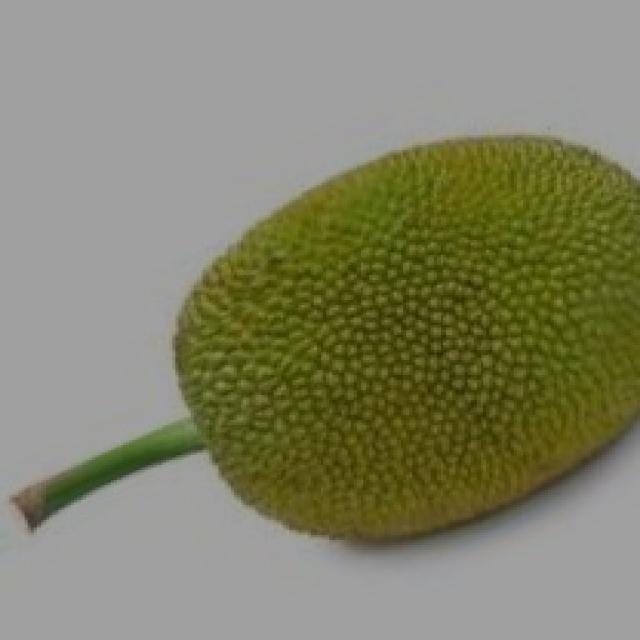Fruit: (203, 127, 637, 555)
